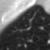node: (46, 37, 50, 45), (39, 26, 45, 30), (24, 43, 28, 49)
